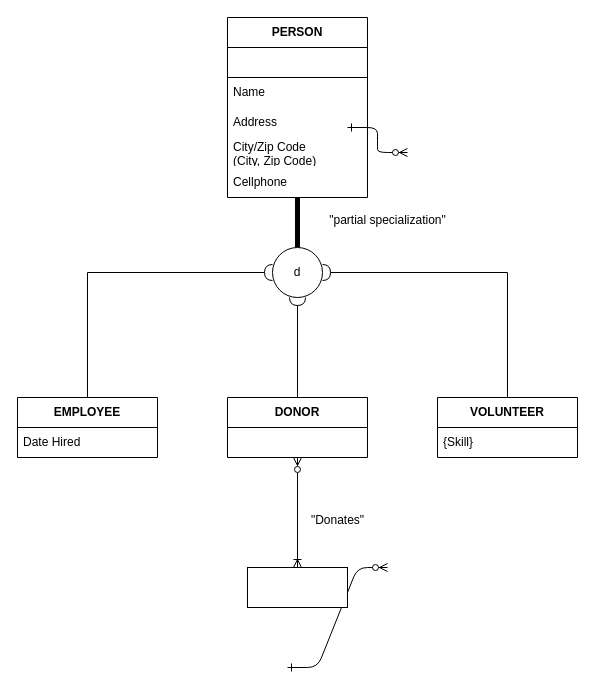
The diagram is 595 pixels wide and 694 high, and some of its shapes have lost their labels. The shapes that lost their labels are listed below. From the top down, each one's centre as x and y in pixels, then its label:
At [297,62]: "SSN".
At [297,587]: "Item".
